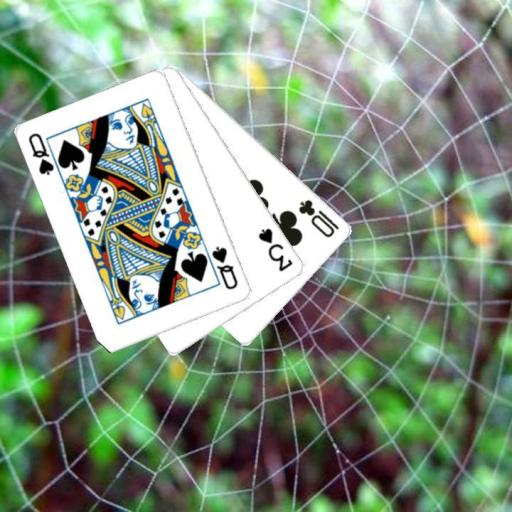10C: (295, 196, 341, 240)
3S: (255, 225, 295, 273)
QS: (209, 243, 240, 292), (26, 130, 56, 177)
